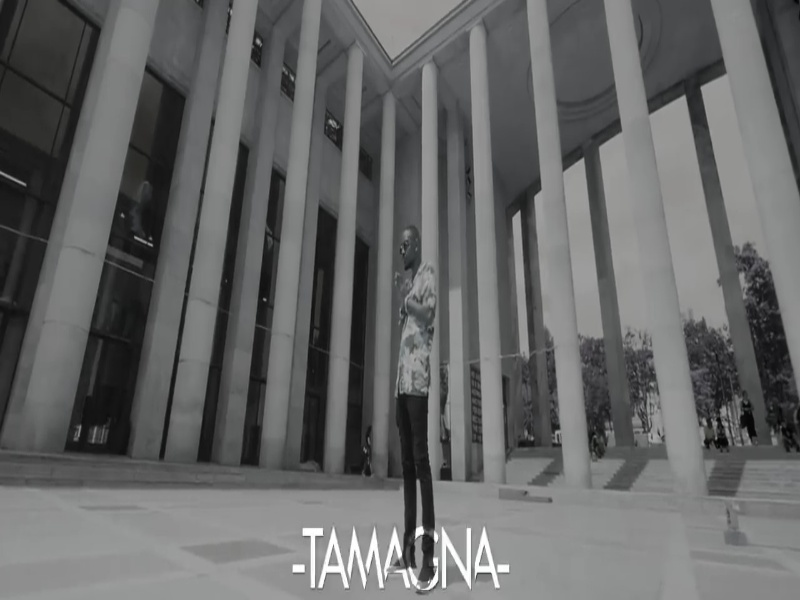TsisyArotava: (391, 225, 436, 281)
